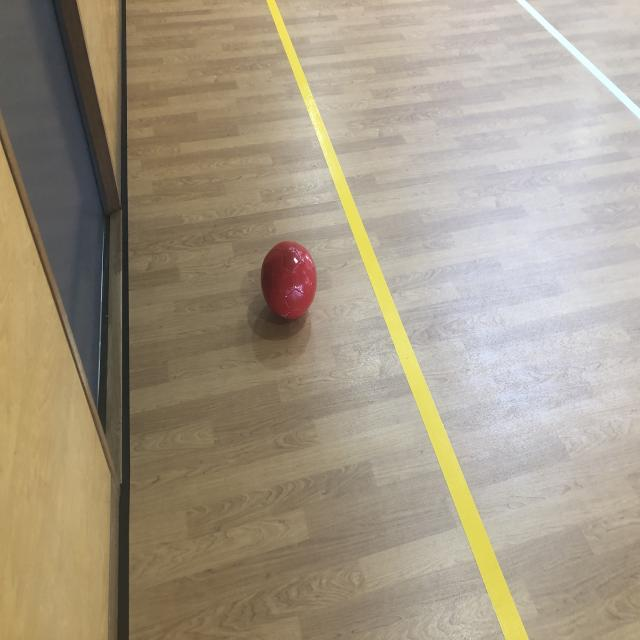red_ball: (261, 240, 318, 319)
